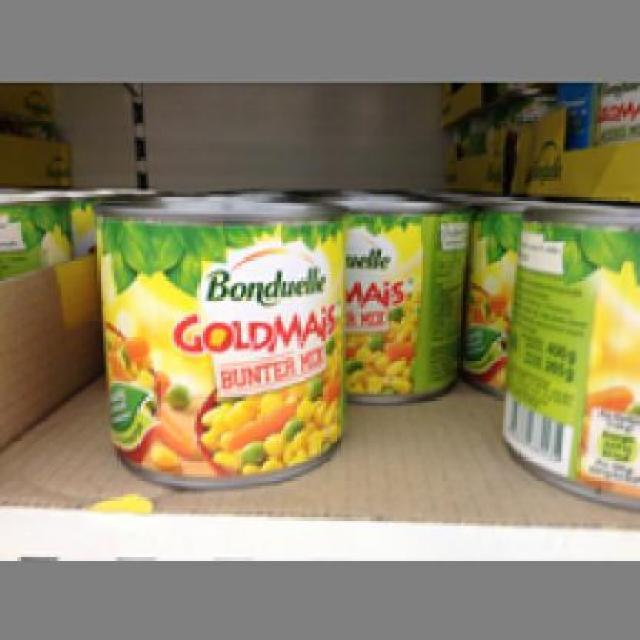Corn: (94, 188, 346, 483), (497, 202, 637, 508), (326, 188, 471, 404)
